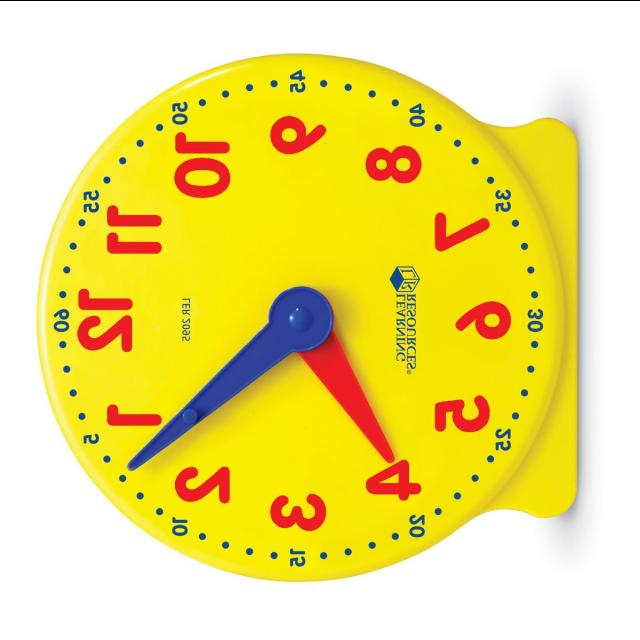clock: (12, 42, 598, 586)
